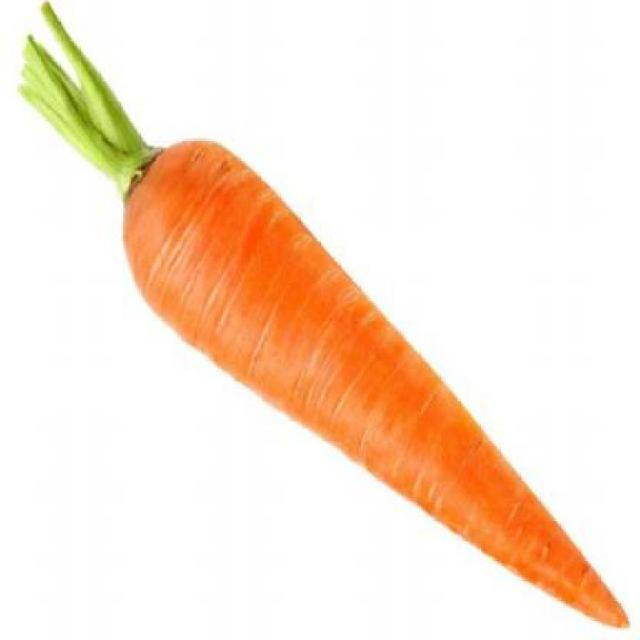carrot: (115, 125, 628, 630)
